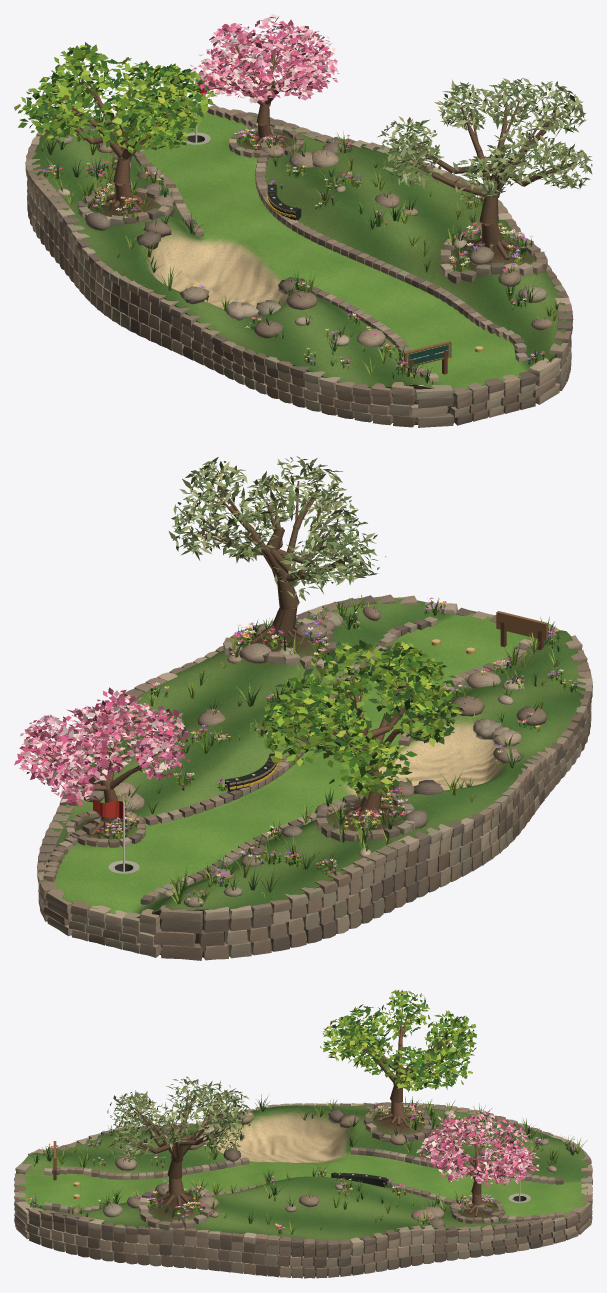
File: hole-02.glb
3 renders of one model, top to bottom at view 1: azimuth 30°, elevation 25°; view 2: azimuth 150°, elevation 25°; view 3: azimuth 270°, elevation 25°, orthographic. The views are drawn at different scales.
Parts seen in each view (by area): view 1: Hole 2 – Bunker Run; view 2: Hole 2 – Bunker Run; view 3: Hole 2 – Bunker Run.
Part boxes in pixels (left/top/right/bottom): Hole 2 – Bunker Run: left=14, top=14, right=592, bottom=427; Hole 2 – Bunker Run: left=14, top=456, right=592, bottom=960; Hole 2 – Bunker Run: left=14, top=990, right=592, bottom=1278.
Size of the model in its own units: 1.75 by 0.8851 by 2.82.
Materials: 7 (4 with a texture image).
